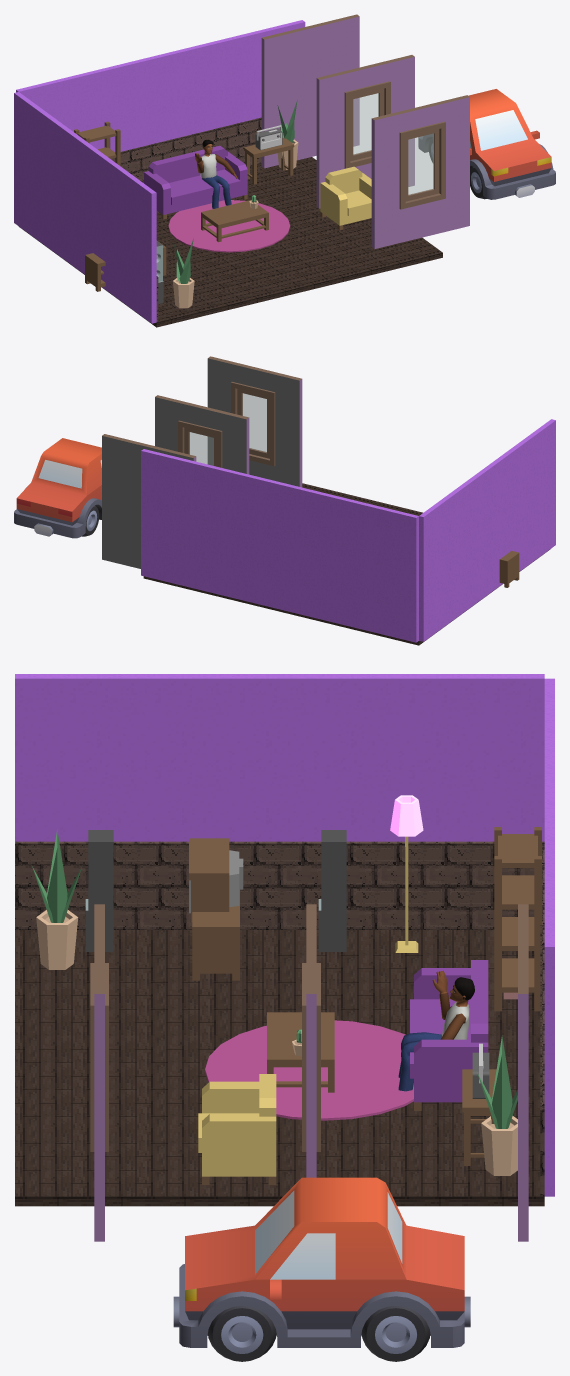
File: room.glb
The picture shows the model from 3 angles, top to bottom: view 1: azimuth 30°, elevation 25°; view 2: azimuth 150°, elevation 25°; view 3: azimuth 270°, elevation 25°; orthographic projection. The views are drawn at different scales.
Visible parts, largest first — view 1: wall_left, floor, wall_back, rwall0, rwall2, rwall1, lowrider, couch, rug, wainscot_back, chair, table (+8 smaller); view 2: wall_back, wall_left, rwall0, lowrider, rwall2, rwall1, floor, tvcab; view 3: floor, wall_left, lowrider, wainscot_left, rug, chair, couch, shelf, wall_back, rwall0, rwall1, tv (+12 smaller).
Boxes of the visible parts, <box> form: wall_left: <box>14,92,156,323</box>; floor: <box>19,157,442,327</box>; wall_back: <box>16,20,305,151</box>; rwall0: <box>371,95,469,249</box>; rwall2: <box>261,14,359,168</box>; rwall1: <box>316,55,414,208</box>; lowrider: <box>418,89,555,199</box>; couch: <box>144,145,247,219</box>; rug: <box>168,200,290,252</box>; wainscot_back: <box>111,117,261,182</box>; chair: <box>320,166,371,230</box>; table: <box>201,200,268,242</box>; wall_back: <box>141,449,418,642</box>; wall_left: <box>419,419,555,641</box>; rwall0: <box>207,356,302,487</box>; lowrider: <box>14,438,101,538</box>; rwall2: <box>102,434,196,568</box>; rwall1: <box>155,395,249,474</box>; floor: <box>143,483,550,645</box>; tvcab: <box>499,551,519,587</box>; floor: <box>15,930,544,1206</box>; wall_left: <box>15,674,544,841</box>; lowrider: <box>173,1177,470,1361</box>; wainscot_left: <box>15,841,544,929</box>; rug: <box>205,1020,413,1120</box>; chair: <box>198,1074,276,1184</box>; couch: <box>410,960,488,1110</box>; shelf: <box>494,827,541,1011</box>; wall_back: <box>544,678,554,1196</box>; rwall0: <box>90,904,108,1241</box>; rwall1: <box>302,904,320,1177</box>; tv: <box>189,838,243,922</box>.
Bounding box in the file's own units: 9.69 × 2.85 × 5.1.
Materials: 54 (7 with a texture image).
